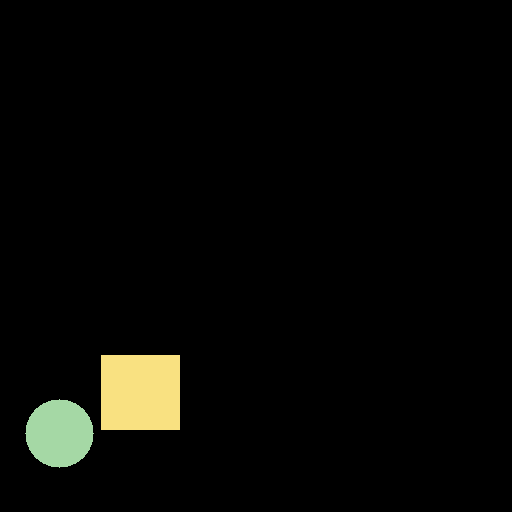circle: (25, 399, 93, 467)
square: (101, 355, 179, 429)
